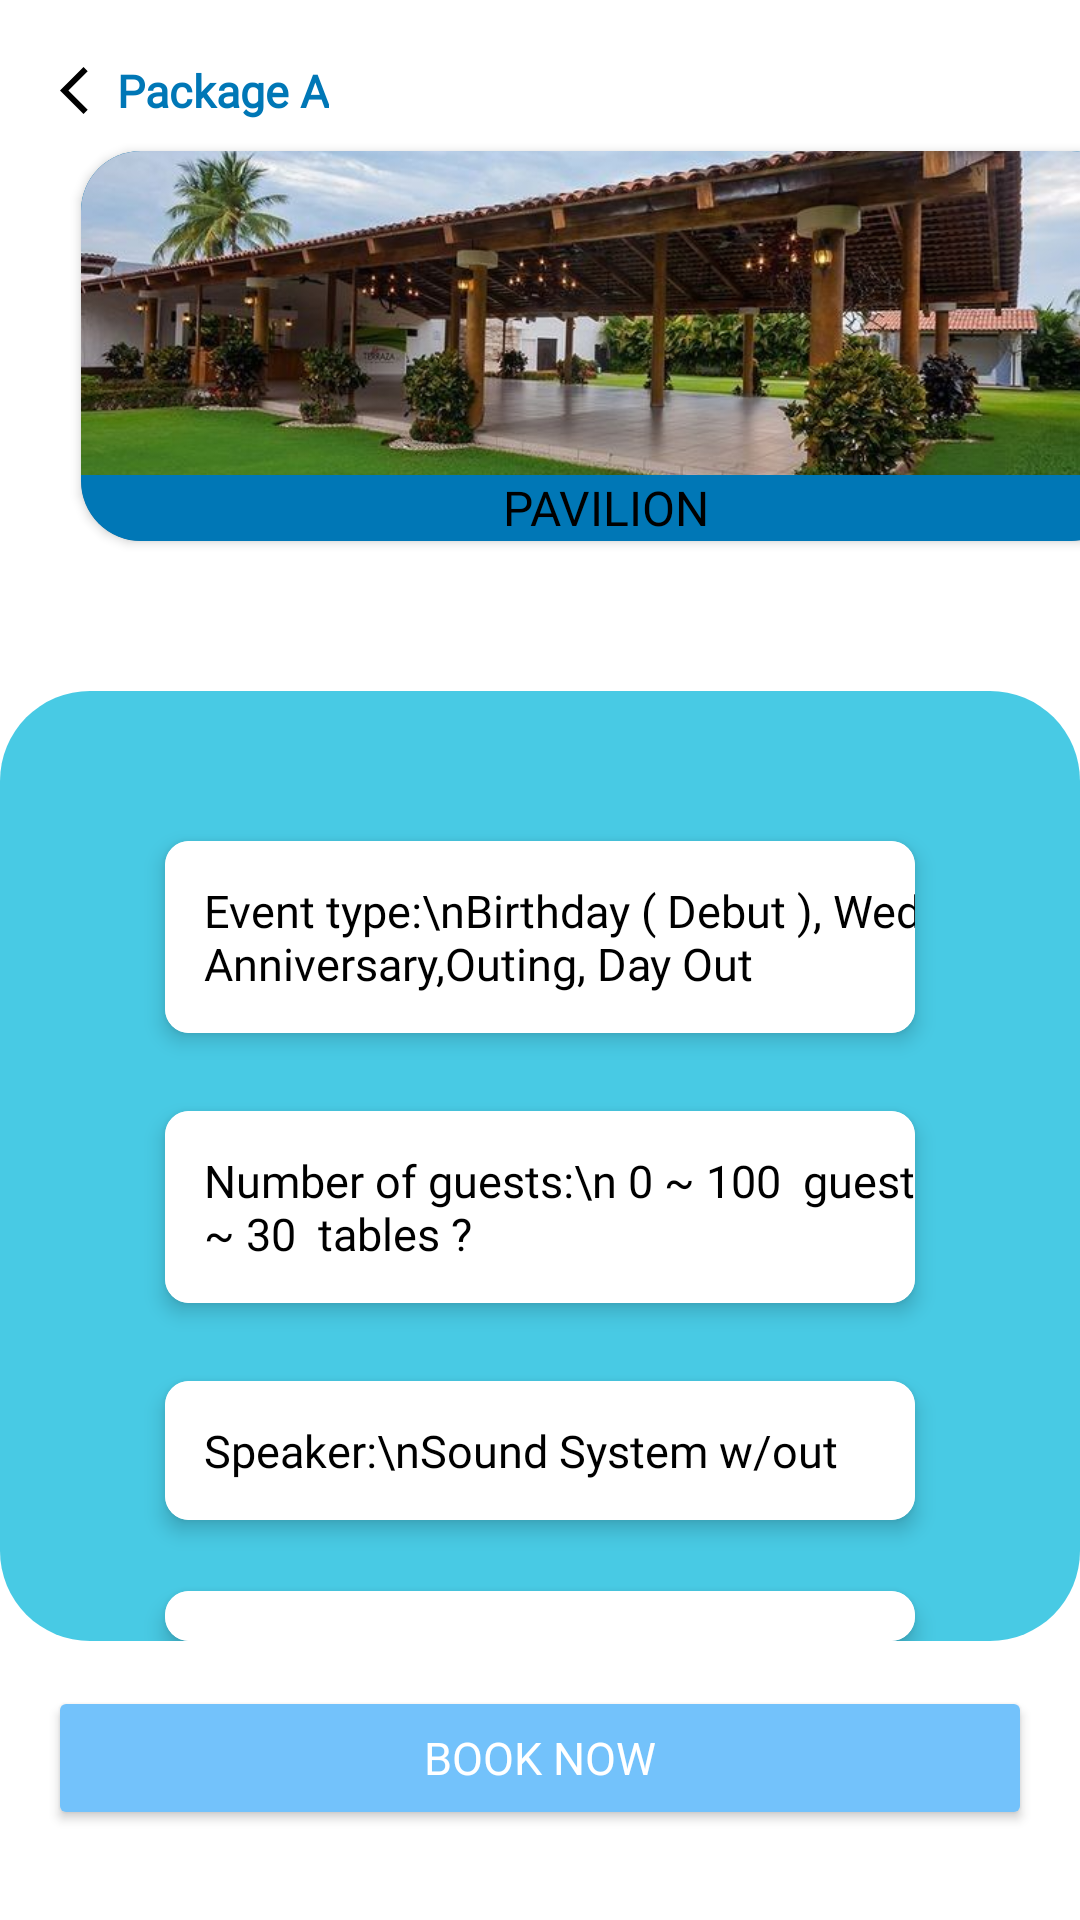

Icons on this 1080px x 1920px Android screen, each with the point to tap as point (x, y):
Back: point (74, 90)
